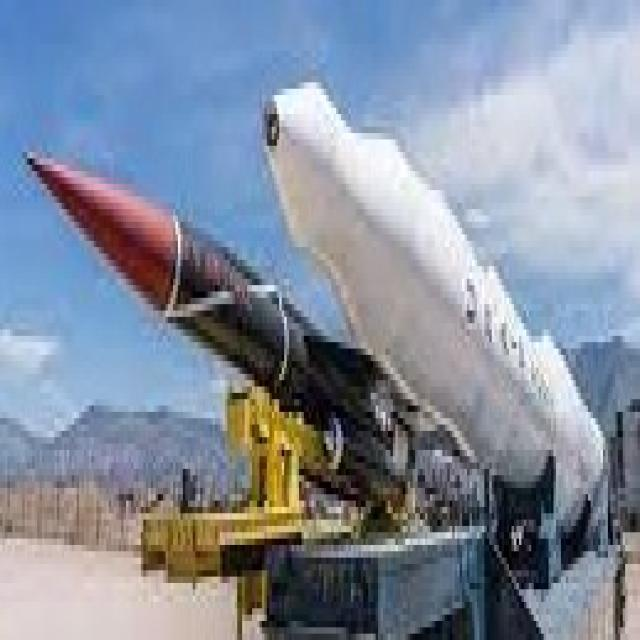missile: (18, 143, 478, 510), (248, 72, 608, 486)
